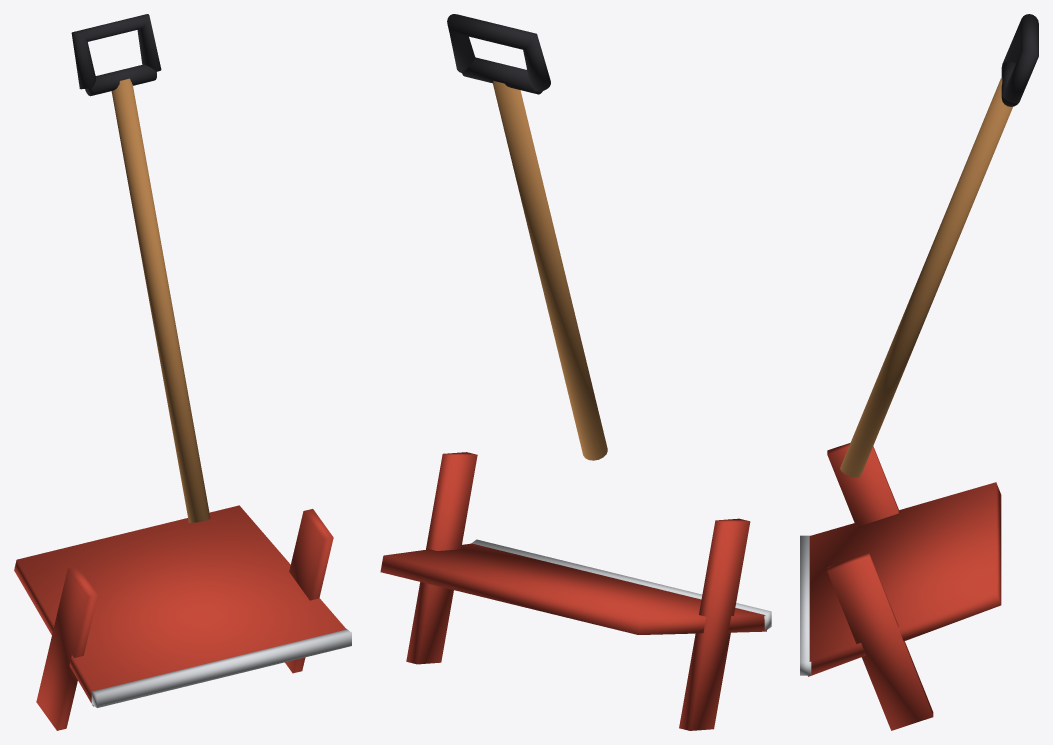
Rendered from snow-shovel.glb.
3 renders of one model, left to right at view 1: azimuth 30°, elevation 25°; view 2: azimuth 150°, elevation 25°; view 3: azimuth 270°, elevation 25°, orthographic. The views are drawn at different scales.
Parts seen in each view (by area): view 1: part0, part4, part2, part1, part5; view 2: part0, part2, part4, part5, part1; view 3: part0, part2, part4, part5, part1.
Boxes of the visible parts, bbox=[...] form: part0: bbox=[14, 505, 346, 706]; part4: bbox=[111, 78, 210, 522]; part2: bbox=[36, 509, 333, 730]; part1: bbox=[91, 629, 351, 707]; part5: bbox=[71, 14, 161, 96]; part0: bbox=[380, 543, 766, 634]; part2: bbox=[406, 452, 750, 730]; part4: bbox=[492, 81, 607, 460]; part5: bbox=[447, 14, 550, 94]; part1: bbox=[471, 539, 771, 631]; part0: bbox=[808, 482, 1001, 676]; part2: bbox=[827, 443, 933, 730]; part4: bbox=[840, 77, 1012, 477]; part5: bbox=[1001, 14, 1038, 106]; part1: bbox=[800, 535, 811, 675].
Bounding box in the file's own units: 0.4246 × 1 × 0.3393.
